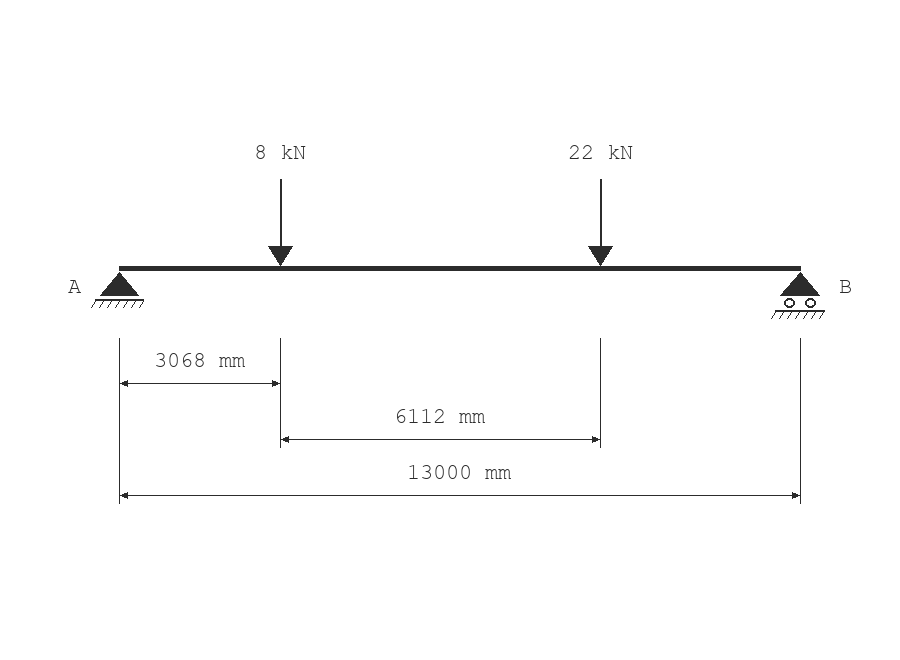pin_support: (91, 272, 144, 308)
point_load: (268, 179, 293, 266), (588, 179, 613, 266)
roller_support: (771, 272, 825, 319)
